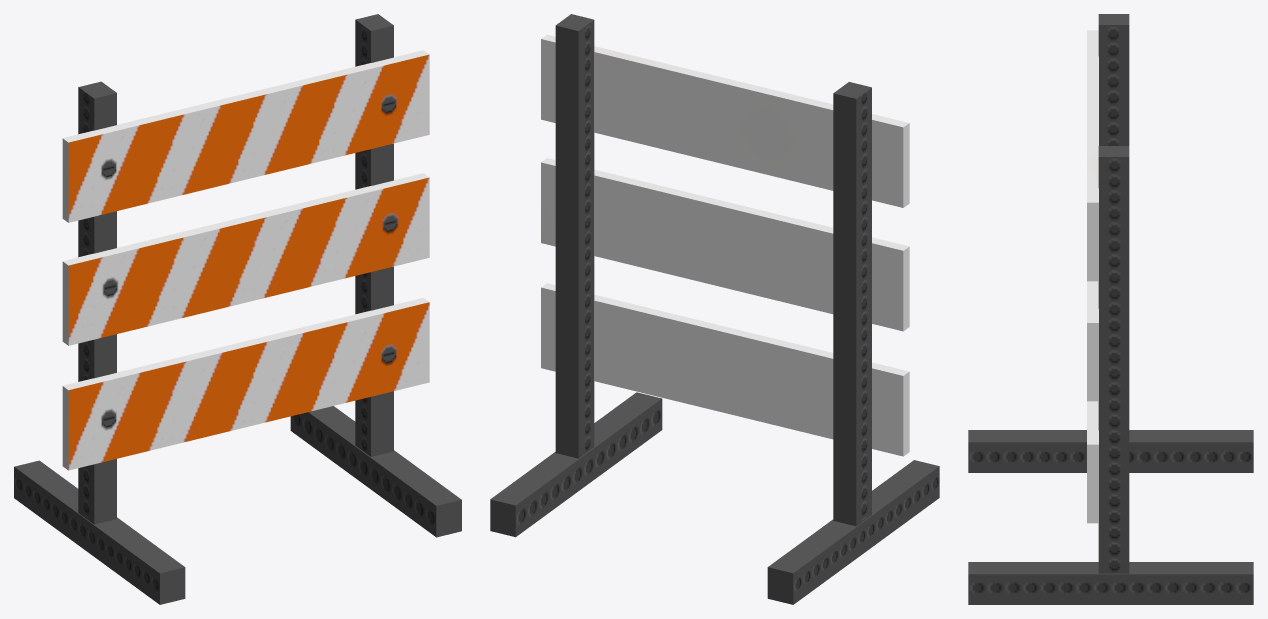
Rendered from barricade.fbx.
3 views of the same model, side by side, from view 1: azimuth 30°, elevation 25°; view 2: azimuth 150°, elevation 25°; view 3: azimuth 270°, elevation 25° (orthographic). The views are drawn at different scales.
Parts seen in each view (by area): view 1: Cube; view 2: Cube; view 3: Cube.
Part boxes in pixels (x1=…): Cube: x1=14, y1=14, x2=461, y2=604; Cube: x1=490, y1=14, x2=939, y2=604; Cube: x1=968, y1=14, x2=1253, y2=604.
Bounding box in the file's own units: 442 × 535 × 309.
